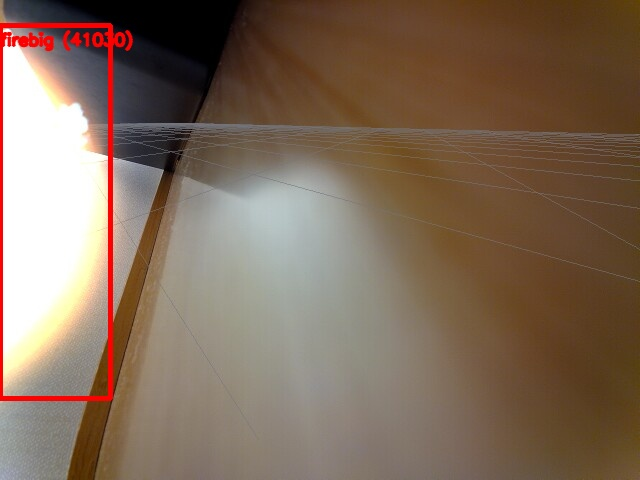firebig: (0, 25, 110, 398)
